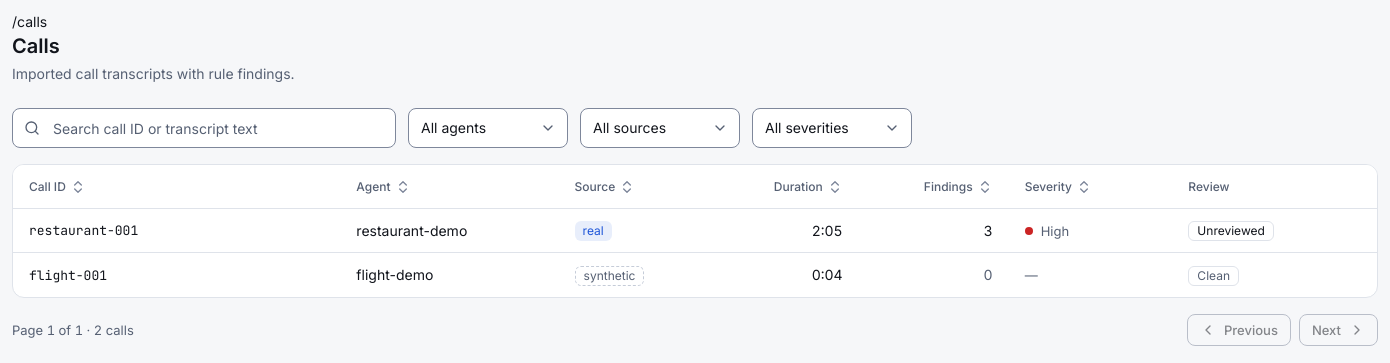
calls page › sorts numeric columns descending first and then toggles
Click the button "Findings" at {"x": 958, "y": 186}, box [924,170,993,202]
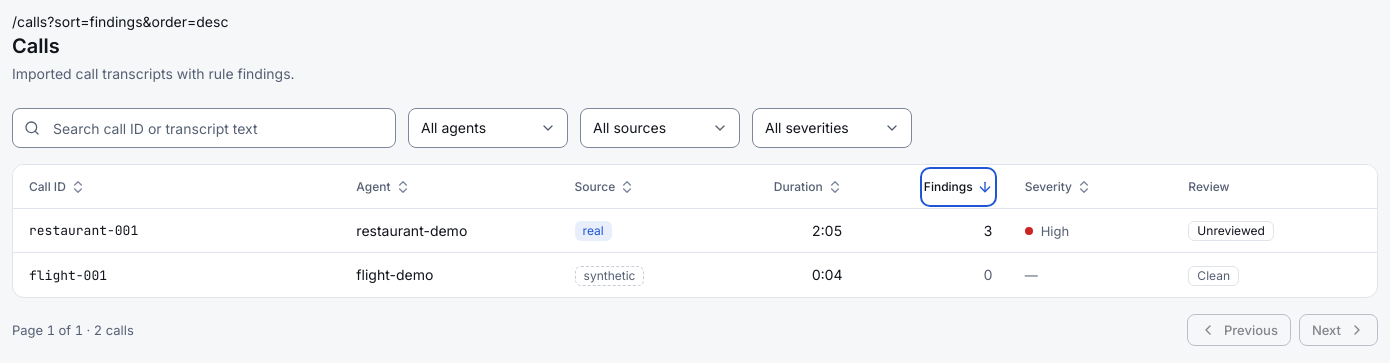
Result: the text with test id "location" reads "/calls?sort=findings&order=desc" at [12,13,228,30]
Click the button "Findings" at {"x": 958, "y": 186}, box [924,170,993,202]
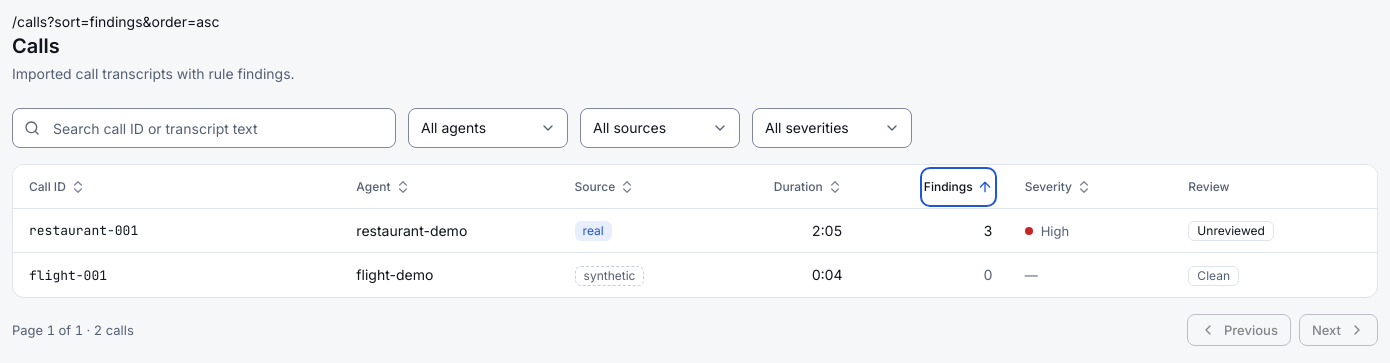
Result: the text with test id "location" reads "/calls?sort=findings&order=asc" at [12,13,220,30]
